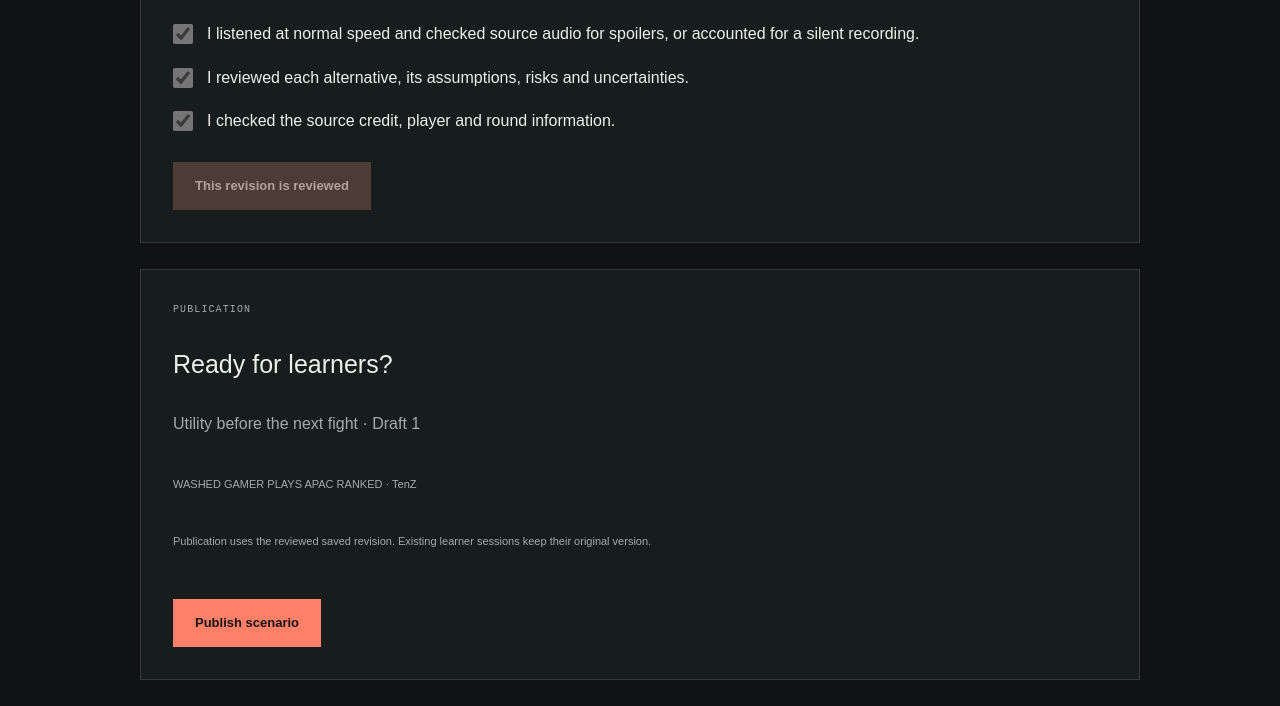
Test: review and publication controls › provides a reload path when a recovered command returns newer content
(page scrolled)
Click the button "Publish scenario". click: [247, 623]
box: left=173, top=599, right=321, bottom=647
(page scrolled)
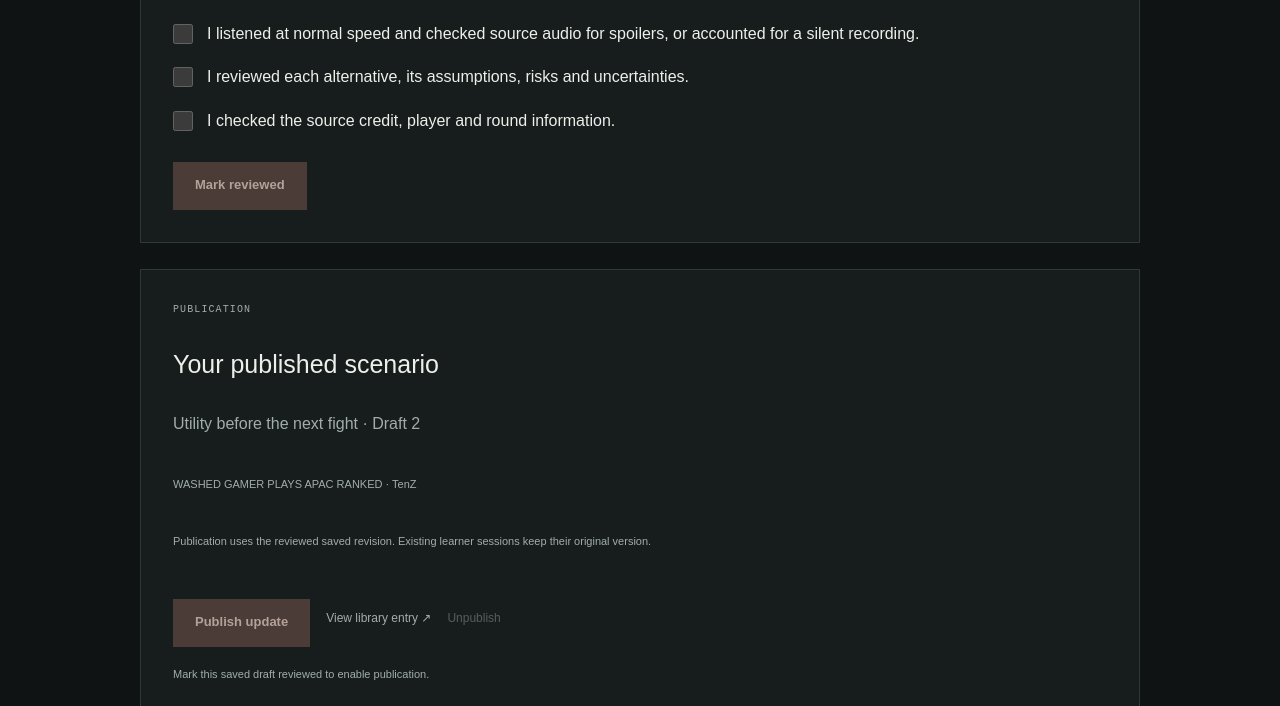
Expected: the button "Publish update" is disabled, left=173, top=599, right=310, bottom=647
